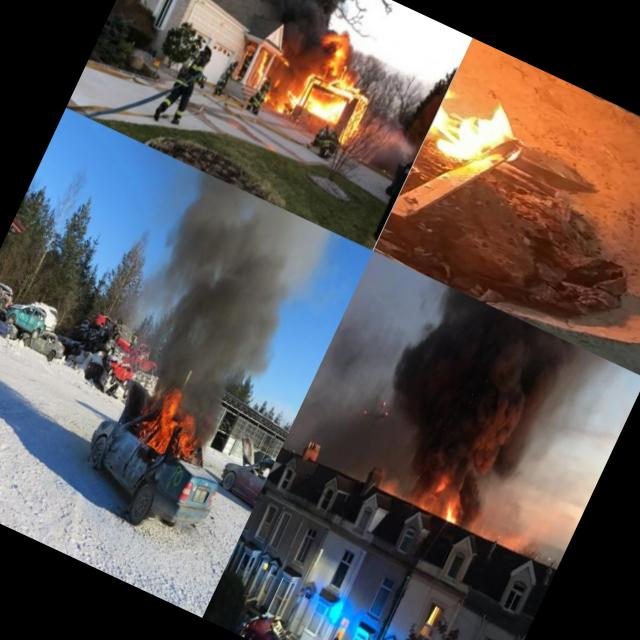fire: (420, 46, 562, 194), (121, 385, 216, 479), (286, 55, 378, 149), (312, 26, 358, 68), (248, 46, 278, 90), (422, 472, 449, 512), (272, 85, 300, 118), (438, 497, 465, 525), (261, 74, 283, 107)
smoke: (346, 273, 610, 523), (104, 170, 332, 436), (217, 0, 355, 30), (274, 11, 324, 62), (272, 51, 312, 93)
